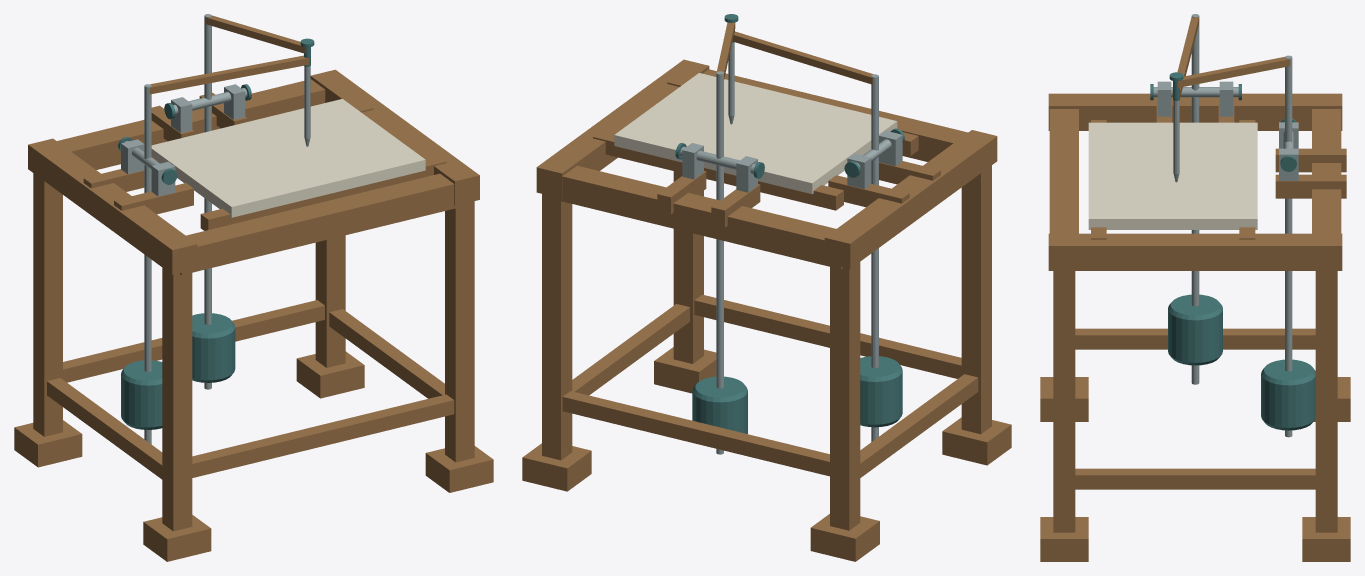
3 views of the same model, side by side, from view 1: azimuth 30°, elevation 25°; view 2: azimuth 150°, elevation 25°; view 3: azimuth 270°, elevation 25° (orthographic). The views are drawn at different scales.
Visible parts, largest first — view 1: WholeBlankDrawingBoard, WholeUpperCrossRail_0, WholeFullTableLeg_0_0, WholeFullTableLeg_1_0, WholeLongUpperFrameRail_0, WholeFullTableLeg_0_1, WholeLowerCrossTie_0, WholeUpperCrossRail_1, WholeLongUpperFrameRail_1, WholeLowerCrossTie_1, WholeFullTableLeg_1_1, WholeLowerLongTie_0 (+19 smaller); view 2: WholeBlankDrawingBoard, WholeUpperCrossRail_1, WholeFullTableLeg_0_1, WholeFullTableLeg_1_1, WholeLongUpperFrameRail_0, WholeFullTableLeg_0_0, WholeLowerCrossTie_1, WholeLowerCrossTie_0, WholeLongUpperFrameRail_1, WholeFullTableLeg_1_0, WholeLowerLongTie_0, WholeLowerLongTie_1 (+19 smaller); view 3: WholeBlankDrawingBoard, WholeLongUpperFrameRail_1, WholeLongUpperFrameRail_0, WholeFullTableLeg_1_0, WholeFullTableLeg_1_1, WholeLowerLongTie_1, WholeLowerLongTie_0, WholeUpperCrossRail_0, WholeLowPendulumWeight_0, WholeLowPendulumWeight_1, WholeUpperCrossRail_1, WholeGroundFoot_1_0 (+14 smaller).
Boxes of the visible parts, x1,y1,x2,y2 form: WholeBlankDrawingBoard: (151, 99, 425, 217); WholeUpperCrossRail_0: (180, 173, 469, 275); WholeFullTableLeg_0_0: (162, 268, 192, 531); WholeFullTableLeg_1_0: (445, 201, 474, 462); WholeLongUpperFrameRail_0: (28, 138, 197, 274); WholeFullTableLeg_0_1: (33, 173, 62, 436); WholeLowerCrossTie_0: (192, 394, 454, 477); WholeUpperCrossRail_1: (57, 79, 325, 169); WholeLongUpperFrameRail_1: (310, 69, 479, 205); WholeLowerCrossTie_1: (63, 300, 324, 382); WholeFullTableLeg_1_1: (315, 235, 345, 367); WholeLowerLongTie_0: (47, 378, 162, 479); WholeBlankDrawingBoard: (614, 73, 897, 194); WholeUpperCrossRail_1: (546, 165, 842, 269); WholeFullTableLeg_0_1: (830, 262, 860, 530); WholeFullTableLeg_1_1: (542, 194, 572, 460); WholeLongUpperFrameRail_0: (824, 130, 997, 268); WholeFullTableLeg_0_0: (961, 165, 991, 434); WholeLowerCrossTie_1: (562, 391, 829, 476); WholeLowerCrossTie_0: (694, 294, 961, 378); WholeLongUpperFrameRail_1: (536, 59, 709, 198); WholeFullTableLeg_1_0: (673, 171, 703, 363); WholeLowerLongTie_0: (860, 374, 978, 477); WholeLowerLongTie_1: (572, 304, 689, 395); WholeBlankDrawingBoard: (1088, 122, 1257, 229); WholeLongUpperFrameRail_1: (1048, 233, 1342, 270); WholeLongUpperFrameRail_0: (1048, 93, 1342, 130); WholeFullTableLeg_1_0: (1053, 271, 1075, 532); WholeFullTableLeg_1_1: (1315, 271, 1337, 532); WholeLowerLongTie_1: (1075, 468, 1315, 489); WholeLowerLongTie_0: (1075, 328, 1315, 349); WholeUpperCrossRail_0: (1049, 109, 1078, 233); WholeLowPendulumWeight_0: (1168, 294, 1222, 365); WholeLowPendulumWeight_1: (1261, 359, 1315, 430); WholeUpperCrossRail_1: (1312, 109, 1341, 233); WholeGroundFoot_1_0: (1040, 517, 1088, 561).
Size of the model in its own units: 1.11 by 1.37 by 0.9.
